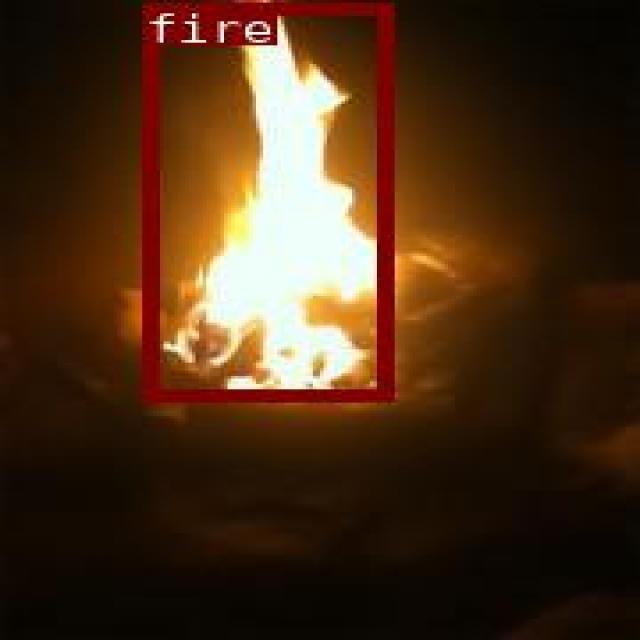fire: (140, 2, 389, 400)
